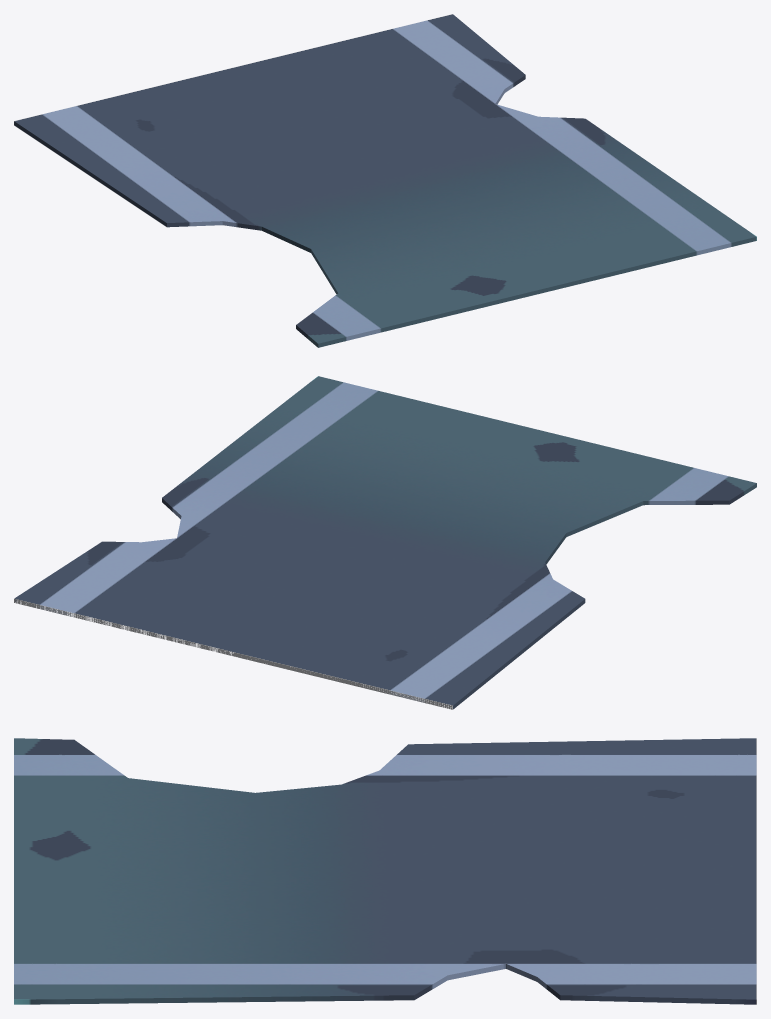
File: Carpet 01 Center 02.fbx
The picture shows the model from 3 angles, top to bottom: view 1: azimuth 30°, elevation 25°; view 2: azimuth 150°, elevation 25°; view 3: azimuth 270°, elevation 25°; orthographic projection. The views are drawn at different scales.
Visible parts, largest first — view 1: Carpet 01 Center 02.002; view 2: Carpet 01 Center 02.002; view 3: Carpet 01 Center 02.002.
Boxes of the visible parts, <box> form: Carpet 01 Center 02.002: <box>14,14,756,347</box>; Carpet 01 Center 02.002: <box>14,376,756,709</box>; Carpet 01 Center 02.002: <box>14,738,756,1004</box>.
Size of the model in its own units: 167 by 1.5 by 200.
